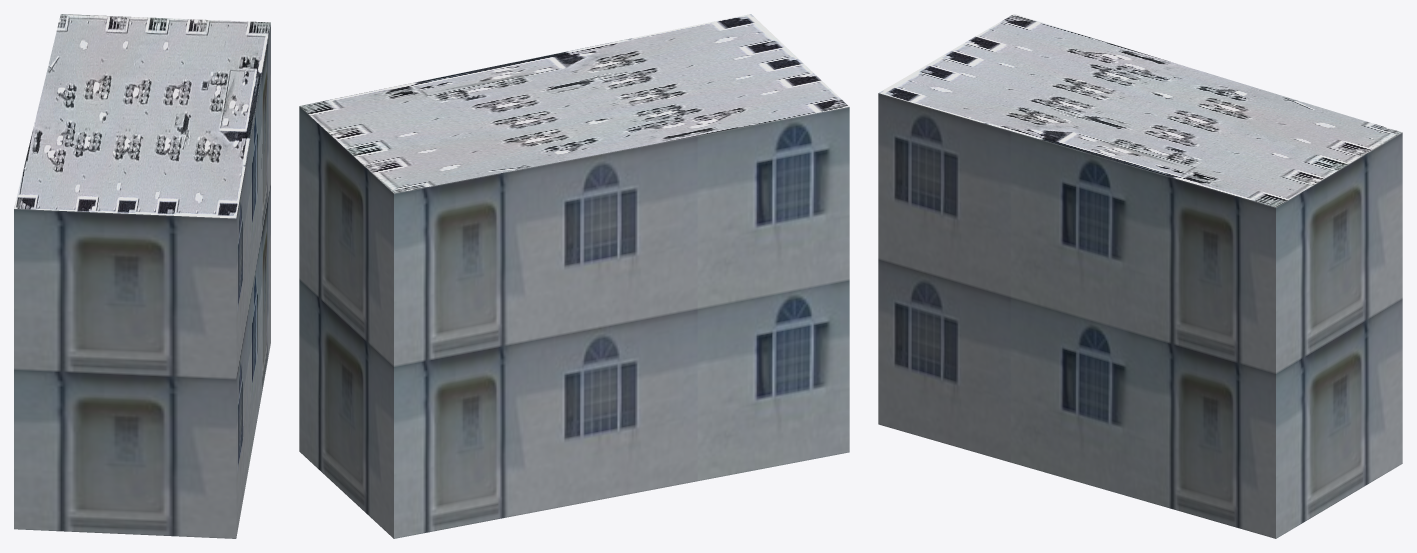
The model's file is ResTex__3920.fbx.
3 views of the same model, side by side, from view 1: azimuth 30°, elevation 25°; view 2: azimuth 150°, elevation 25°; view 3: azimuth 270°, elevation 25° (orthographic). The views are drawn at different scales.
Visible parts, largest first — view 1: CityEngineMaterial_17_m, CityEngineMaterial_8_m; view 2: CityEngineMaterial_17_m, CityEngineMaterial_8_m; view 3: CityEngineMaterial_17_m, CityEngineMaterial_8_m.
Part boxes in pixels (bbox=[...]): CityEngineMaterial_17_m: bbox=[14, 23, 270, 538]; CityEngineMaterial_8_m: bbox=[14, 14, 270, 218]; CityEngineMaterial_17_m: bbox=[299, 106, 849, 538]; CityEngineMaterial_8_m: bbox=[299, 14, 849, 193]; CityEngineMaterial_17_m: bbox=[878, 93, 1402, 538]; CityEngineMaterial_8_m: bbox=[879, 14, 1401, 207].
Size of the model in its own units: 7.52 by 6 by 8.6.
2 materials, 2 textured.
